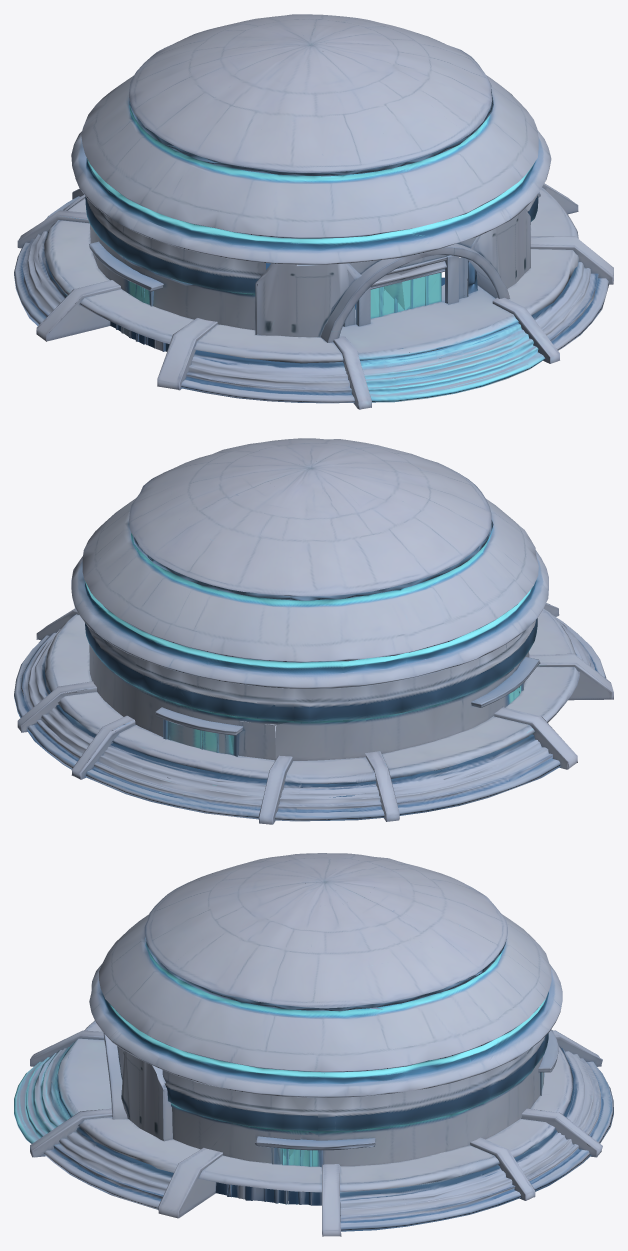
File: duel_dome.glb
3 views of the same model, one above another, from view 1: azimuth 30°, elevation 25°; view 2: azimuth 150°, elevation 25°; view 3: azimuth 270°, elevation 25° (orthographic).
Visible parts, largest first — view 1: geometry_0; view 2: geometry_0; view 3: geometry_0.
Part boxes in pixels (x1,y1,x2,y2): geometry_0: (14,14,613,409); geometry_0: (14,438,613,824); geometry_0: (14,853,613,1236).
Size of the model in its own units: 0.9487 by 0.395 by 0.9419.
Materials: 1 (1 with a texture image).
